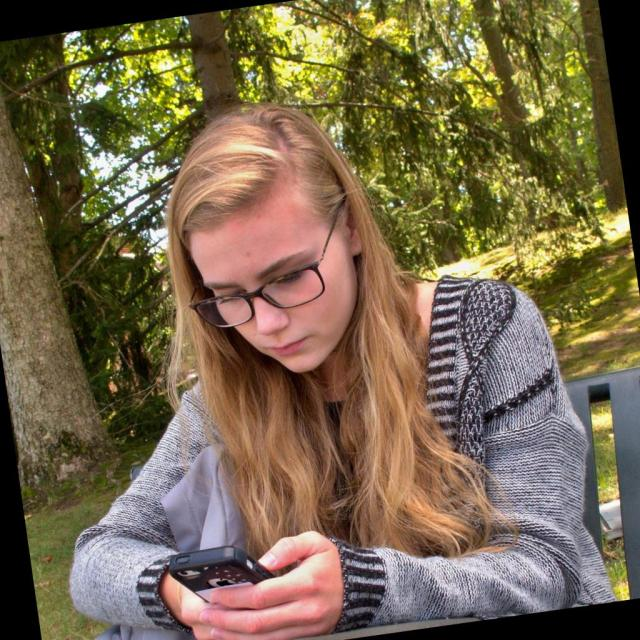phone: (163, 546, 282, 609)
